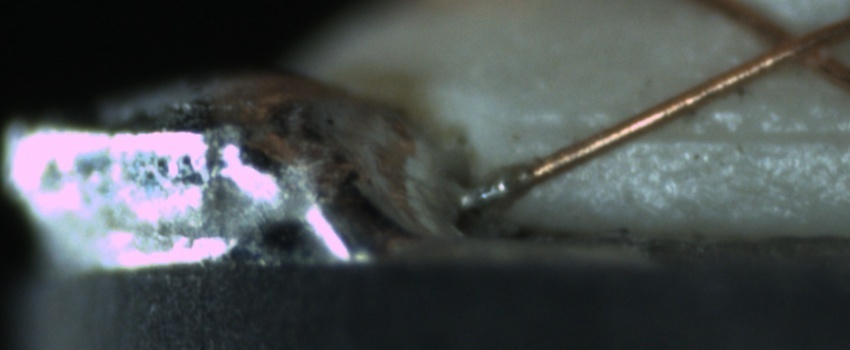CL: (743, 8, 841, 79)
DL: (532, 99, 850, 165)
TS: (458, 173, 515, 210)
TTCW: (456, 157, 548, 210)
